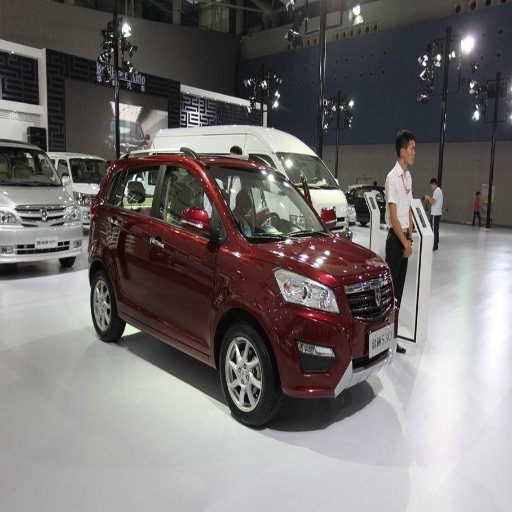front_bumper: (269, 274, 399, 397)
front_right_door: (150, 160, 222, 348)
front_right_light: (275, 269, 341, 314)
